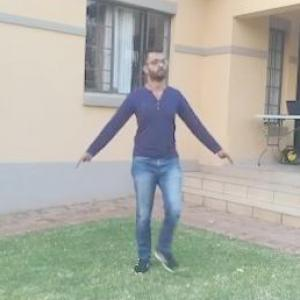land: (79, 53, 227, 270)
